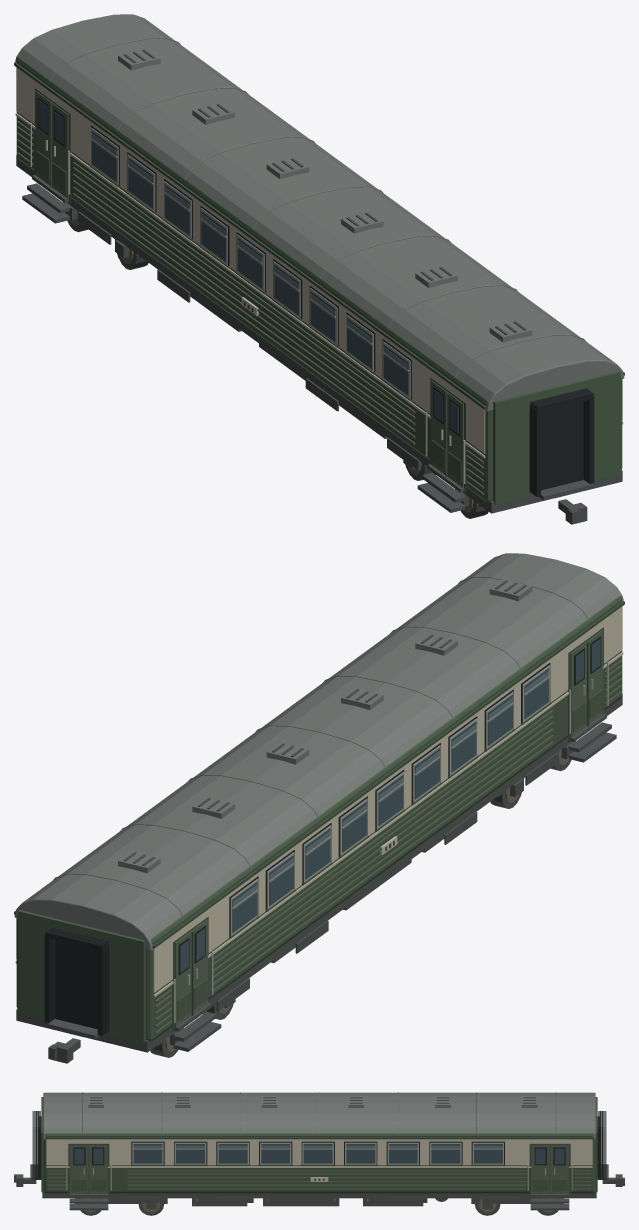
File: ed4m_trailer.glb
3 views of the same model, one above another, from view 1: azimuth 30°, elevation 25°; view 2: azimuth 150°, elevation 25°; view 3: azimuth 270°, elevation 25° (orthographic). The views are drawn at different scales.
Visible parts, largest first — view 1: trailer / 05 / zinc grey roof, trailer / 01 / faded bottle green, trailer / 06 / underframe steel, trailer / 02 / raised body details, trailer / 04 / warm ivory trim, trailer / 07 / rubber and gaskets, trailer / 08 / opaque blue smoke glass, trailer / 03 / door recesses, trailer / 15 / window metal frames, trailer / 09 / glass reflection; view 2: trailer / 05 / zinc grey roof, trailer / 01 / faded bottle green, trailer / 06 / underframe steel, trailer / 02 / raised body details, trailer / 04 / warm ivory trim, trailer / 07 / rubber and gaskets, trailer / 08 / opaque blue smoke glass, trailer / 03 / door recesses, trailer / 15 / window metal frames, trailer / 09 / glass reflection; view 3: trailer / 05 / zinc grey roof, trailer / 01 / faded bottle green, trailer / 06 / underframe steel, trailer / 02 / raised body details, trailer / 04 / warm ivory trim, trailer / 08 / opaque blue smoke glass, trailer / 03 / door recesses, trailer / 07 / rubber and gaskets, trailer / 15 / window metal frames, trailer / 09 / glass reflection, trailer / 16 / brake dust.
Boxes of the visible parts, x1,y1,x2,y2 form: trailer / 05 / zinc grey roof: [15, 14, 624, 411]; trailer / 01 / faded bottle green: [16, 57, 622, 504]; trailer / 06 / underframe steel: [16, 49, 622, 524]; trailer / 02 / raised body details: [16, 91, 483, 495]; trailer / 04 / warm ivory trim: [15, 67, 623, 458]; trailer / 07 / rubber and gaskets: [37, 97, 594, 496]; trailer / 08 / opaque blue smoke glass: [38, 100, 458, 433]; trailer / 03 / door recesses: [14, 62, 624, 492]; trailer / 15 / window metal frames: [30, 123, 465, 483]; trailer / 09 / glass reflection: [91, 134, 407, 372]; trailer / 05 / zinc grey roof: [14, 553, 623, 950]; trailer / 01 / faded bottle green: [16, 596, 622, 1043]; trailer / 06 / underframe steel: [16, 580, 622, 1063]; trailer / 02 / raised body details: [155, 630, 622, 1034]; trailer / 04 / warm ivory trim: [15, 606, 623, 997]; trailer / 07 / rubber and gaskets: [44, 636, 601, 1035]; trailer / 08 / opaque blue smoke glass: [180, 639, 600, 972]; trailer / 03 / door recesses: [14, 601, 624, 1031]; trailer / 15 / window metal frames: [173, 662, 608, 1022]; trailer / 09 / glass reflection: [233, 671, 549, 909]; trailer / 05 / zinc grey roof: [43, 1092, 595, 1139]; trailer / 01 / faded bottle green: [41, 1097, 597, 1193]; trailer / 06 / underframe steel: [14, 1097, 624, 1215]; trailer / 02 / raised body details: [47, 1145, 591, 1193]; trailer / 04 / warm ivory trim: [46, 1139, 592, 1181]; trailer / 08 / opaque blue smoke glass: [74, 1144, 564, 1164]; trailer / 03 / door recesses: [45, 1137, 593, 1196]; trailer / 07 / rubber and gaskets: [32, 1111, 606, 1179]; trailer / 15 / window metal frames: [66, 1142, 572, 1190]; trailer / 09 / glass reflection: [133, 1145, 502, 1149]; trailer / 16 / brake dust: [82, 1198, 556, 1212].
Size of the model in its own units: 4.26 by 4.27 by 23.26.
